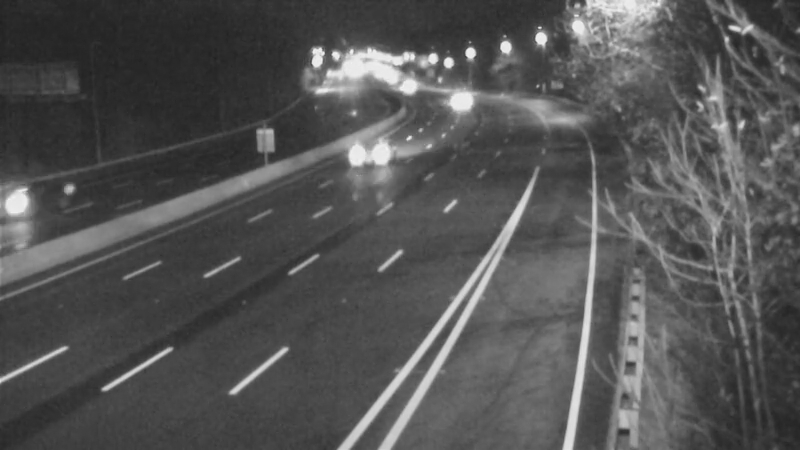vehicle: (332, 112, 412, 192), (1, 158, 78, 238), (383, 60, 433, 110), (430, 74, 480, 124)
